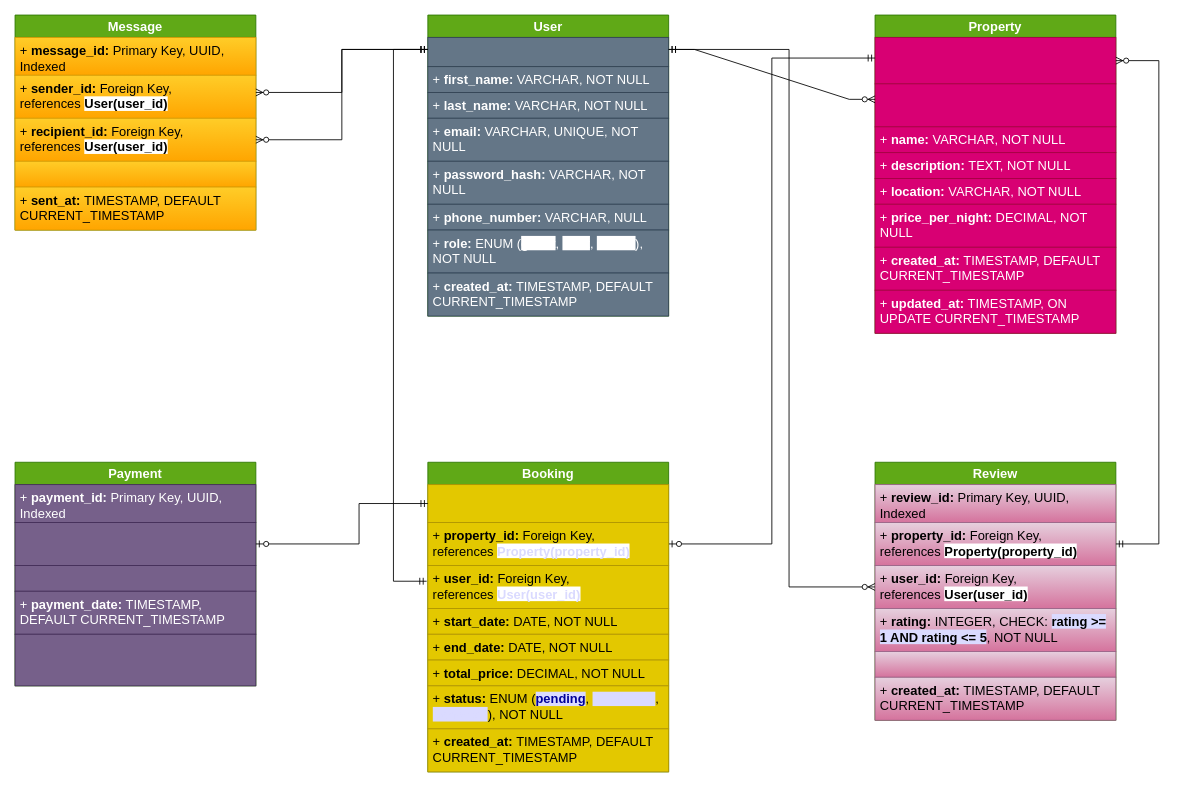
Some shapes in this 1182 by 789 pixel diagram are drawn without their labels. The shapes that lost their labels are listed below. From the top down, each one's box as (x1, y1, x2, y2) in pixels, then its label:
(427, 37, 669, 67): + user_id: Primary Key, UUID, Indexed
(874, 37, 1116, 84): + property_id: Primary Key, UUID, Indexed
(874, 83, 1116, 127): + host_id: Foreign Key, references User(user_id)
(14, 160, 256, 187): + message_body: TEXT, NOT NULL
(427, 484, 669, 522): + booking_id: Primary Key, UUID, Indexed
(14, 522, 256, 565): + booking_id: Foreign Key, references Booking(booking_id)
(14, 565, 256, 591): + amount: DECIMAL, NOT NULL
(14, 633, 256, 686): + payment_method: ENUM ( credit_card , paypal , stripe ), NOT NULL
(874, 651, 1116, 677): + comment: TEXT, NOT NULL
